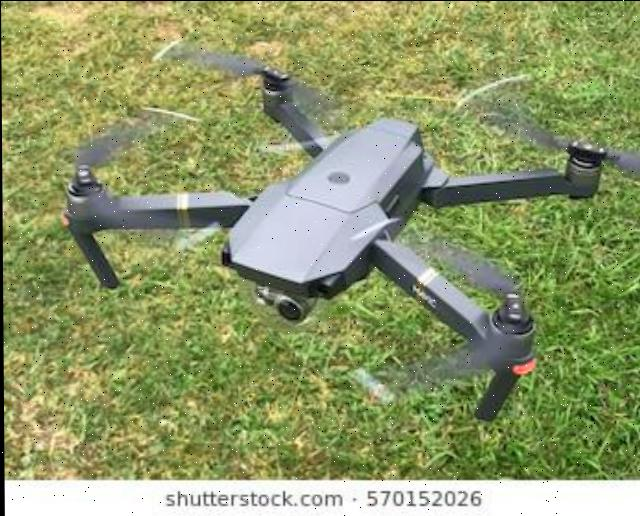drone: (0, 1, 640, 486)
